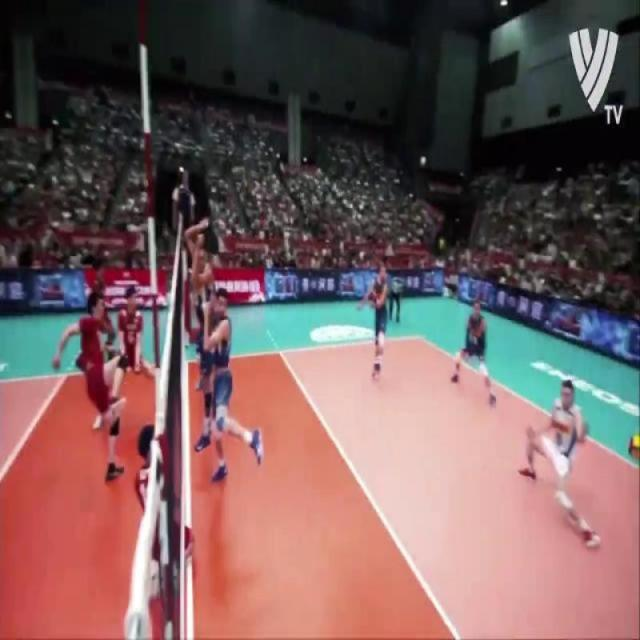volleyball: (624, 428, 640, 464)
